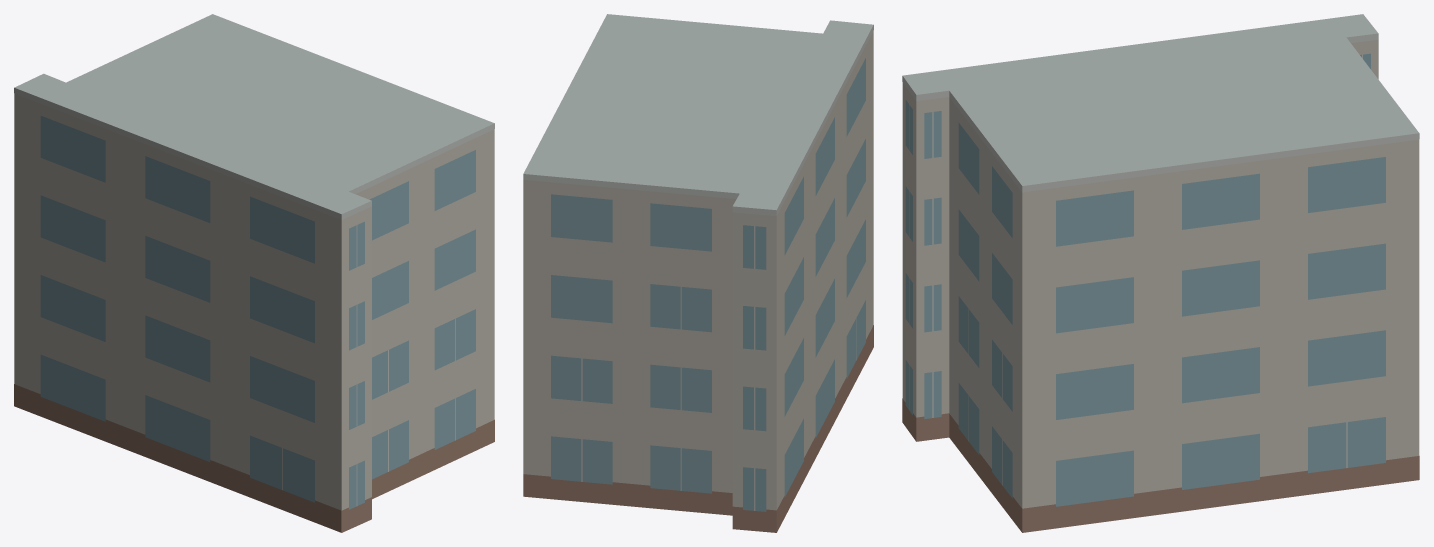
Rendered from survey-upis-32620989.glb.
3 views of the same model, side by side, from view 1: azimuth 30°, elevation 25°; view 2: azimuth 150°, elevation 25°; view 3: azimuth 270°, elevation 25° (orthographic). The views are drawn at different scales.
Parts seen in each view (by area): view 1: survey-upis-32620989.tmp; view 2: survey-upis-32620989.tmp; view 3: survey-upis-32620989.tmp.
Boxes of the visible parts, left/top/right/bottom form: survey-upis-32620989.tmp: left=14, top=14, right=494, bottom=532; survey-upis-32620989.tmp: left=523, top=14, right=873, bottom=532; survey-upis-32620989.tmp: left=902, top=14, right=1419, bottom=532.
Size of the model in its own units: 14.37 by 13.5 by 18.25.
